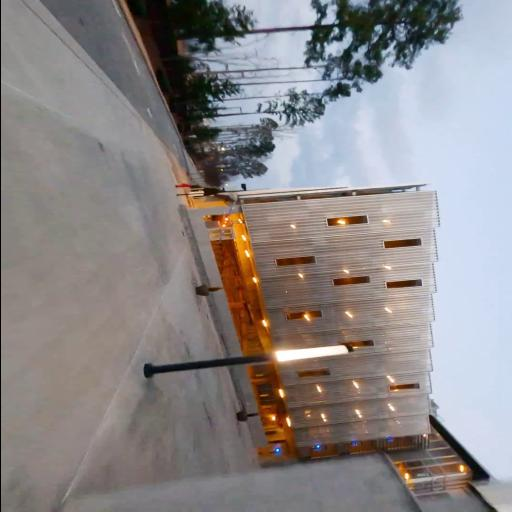uav: (214, 197, 242, 245)
